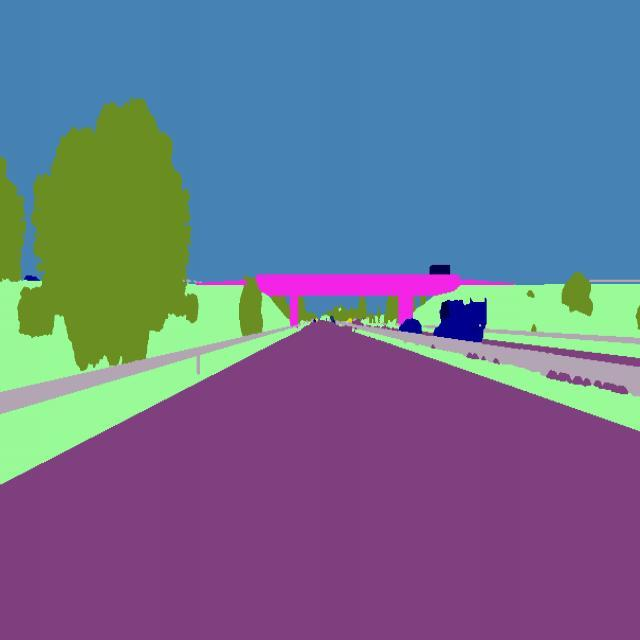safe: (433, 296, 488, 348), (398, 316, 426, 336)
